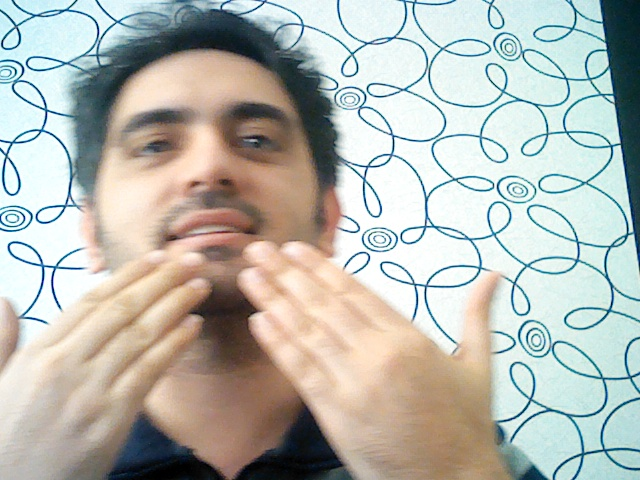ThankYou: (1, 249, 507, 480)
